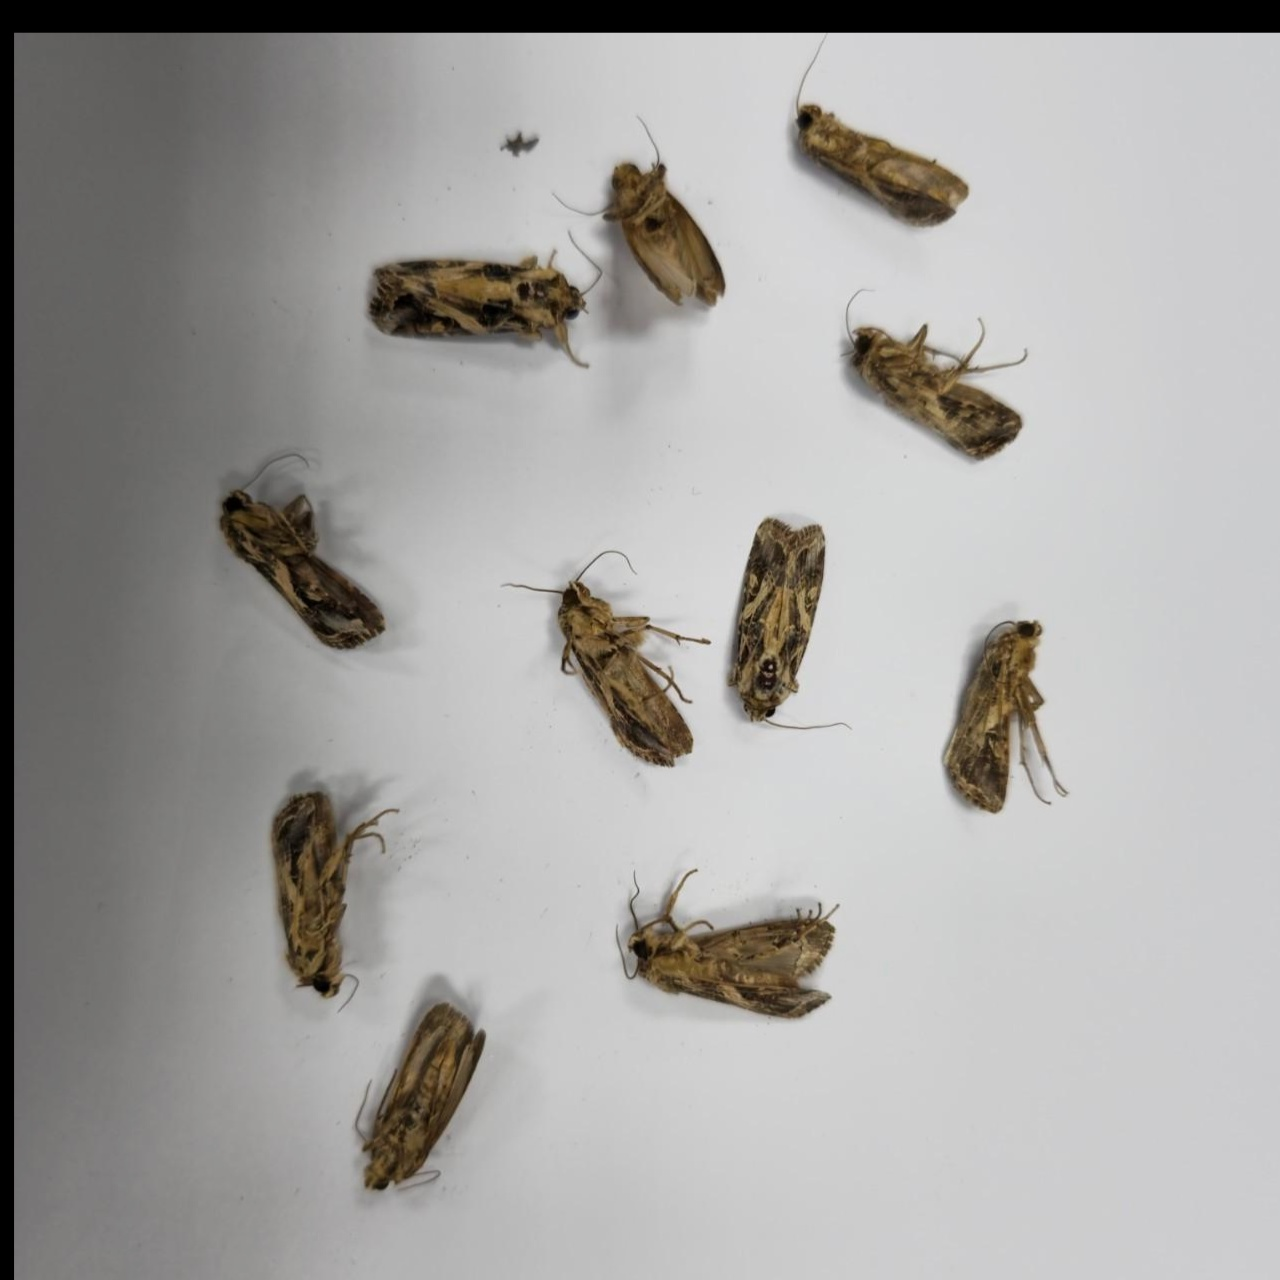Spodoptera litura: (501, 550, 710, 764), (614, 865, 840, 1017), (792, 33, 969, 226), (552, 115, 726, 307), (218, 452, 384, 651), (369, 229, 602, 368), (840, 286, 1027, 459), (270, 790, 399, 1010), (727, 516, 852, 727), (352, 1001, 486, 1192), (941, 618, 1069, 813)
